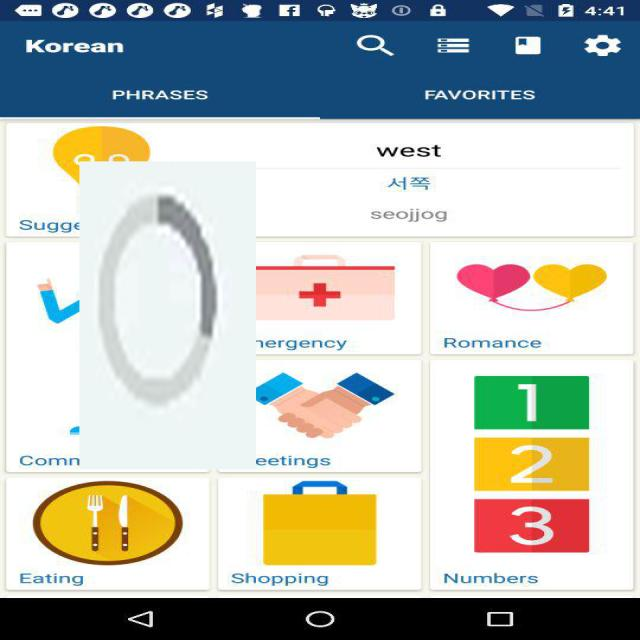misdirection: (79, 162, 256, 470)
